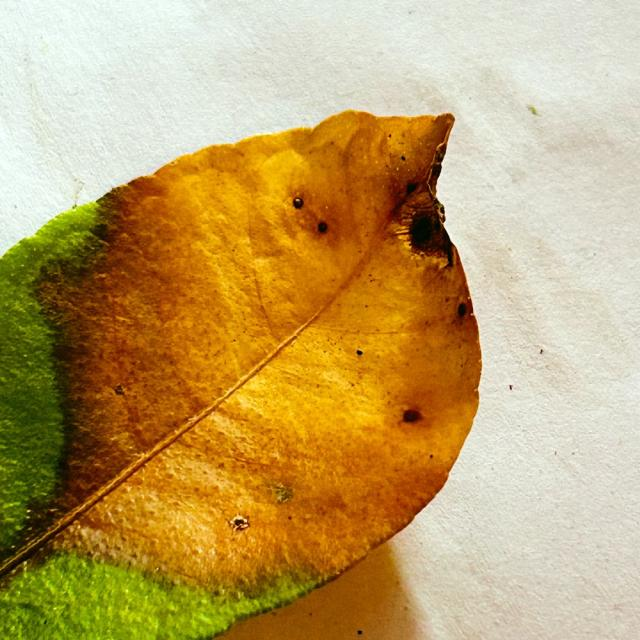DryLeaf_Lemon: (10, 111, 481, 598)
